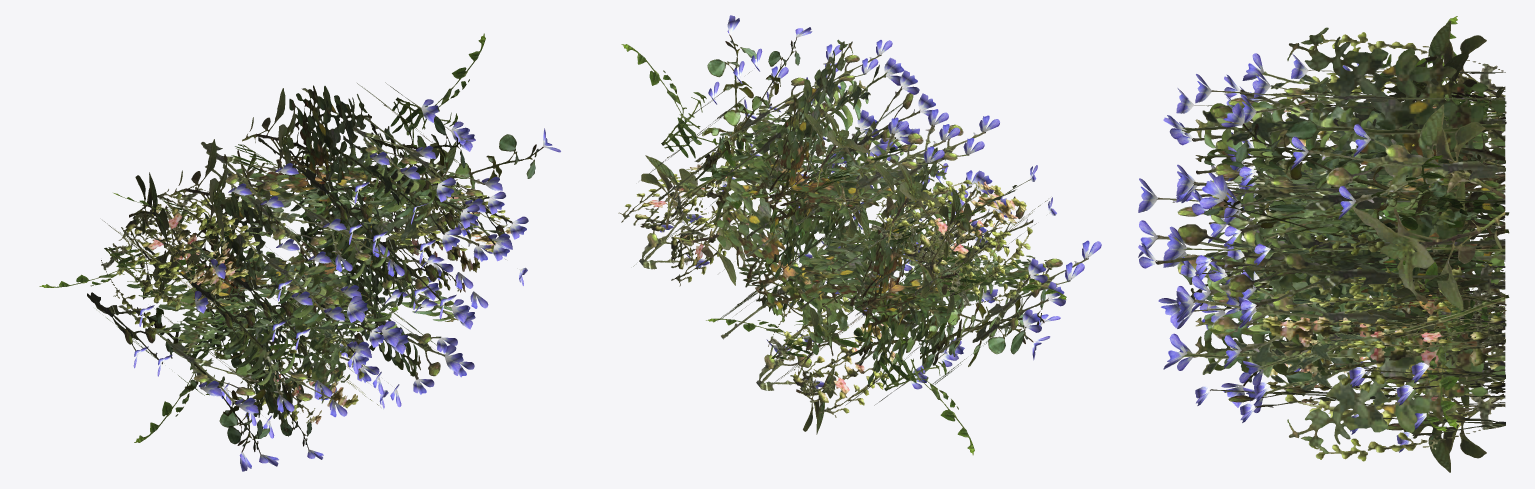
File: foliage_gardenflowers_blue_group_LOD1.obj
3 renders of one model, left to right at view 1: azimuth 30°, elevation 25°; view 2: azimuth 150°, elevation 25°; view 3: azimuth 270°, elevation 25°, orthographic. The views are drawn at different scales.
Visible parts, largest first — view 1: mtl_gardenflowers; view 2: mtl_gardenflowers; view 3: mtl_gardenflowers.
Boxes of the visible parts, x1,y1,x2,y2 form: mtl_gardenflowers: [39, 33, 560, 471]; mtl_gardenflowers: [618, 15, 1101, 455]; mtl_gardenflowers: [1138, 16, 1509, 472].
Bounding box in the file's own units: 117 × 89.18 × 66.35.
